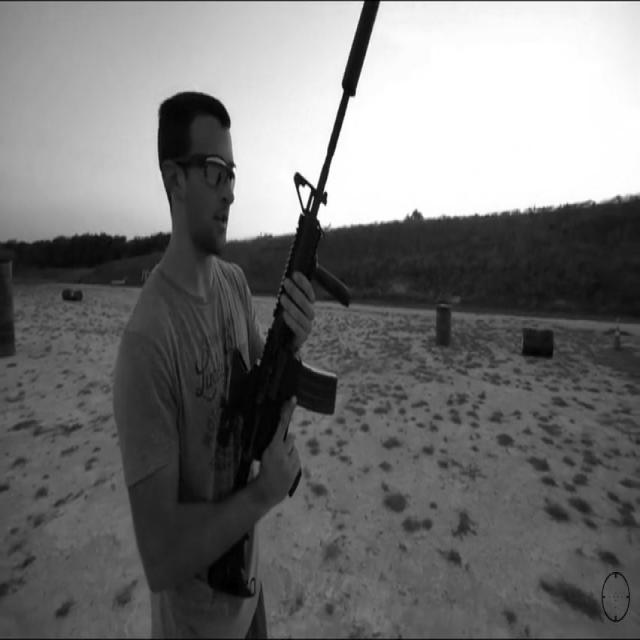Sniper: (150, 0, 425, 613)
